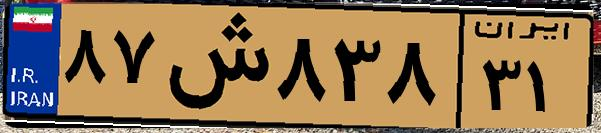1: (525, 38, 570, 115)
3: (330, 28, 385, 110), (475, 38, 525, 113)
7: (110, 28, 158, 98)
8: (270, 28, 330, 110), (385, 28, 445, 110), (57, 26, 110, 100)
ش: (158, 12, 270, 120)
